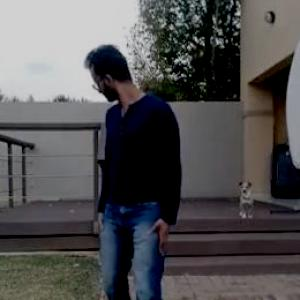follow: (61, 25, 185, 299)
